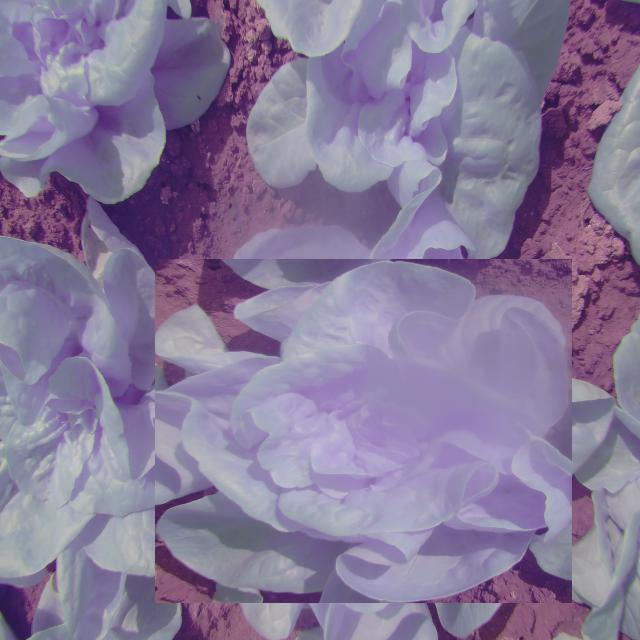vege: (174, 240, 554, 622)
